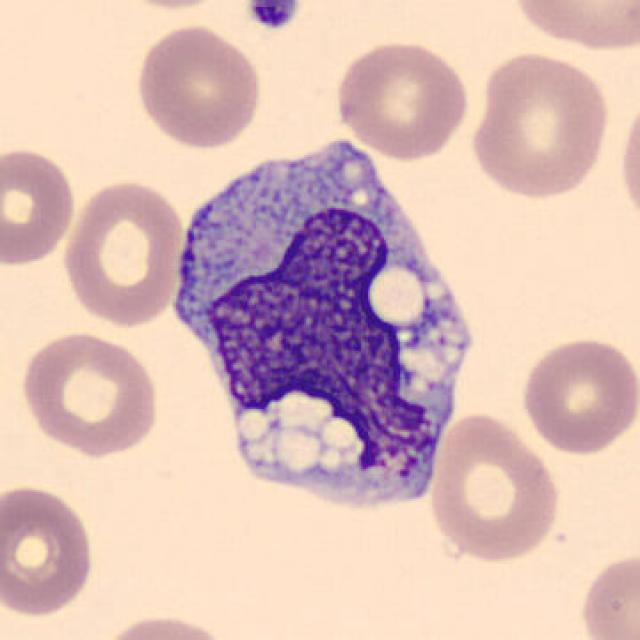Monocyte: (165, 118, 489, 527)
Platelets: (244, 0, 302, 32)
RBC: (466, 46, 613, 203), (425, 409, 563, 564), (57, 174, 187, 328), (16, 328, 162, 458), (130, 20, 265, 152), (332, 37, 473, 162), (518, 333, 638, 457), (0, 480, 100, 620), (0, 141, 78, 270), (507, 0, 638, 53), (574, 548, 638, 640), (92, 610, 236, 640), (615, 85, 640, 231), (103, 0, 236, 12)
